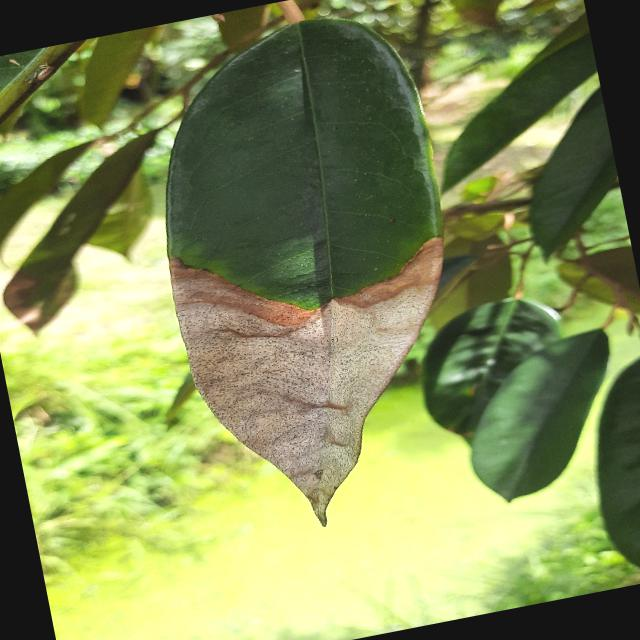Leaf Blight: (117, 0, 511, 556)
